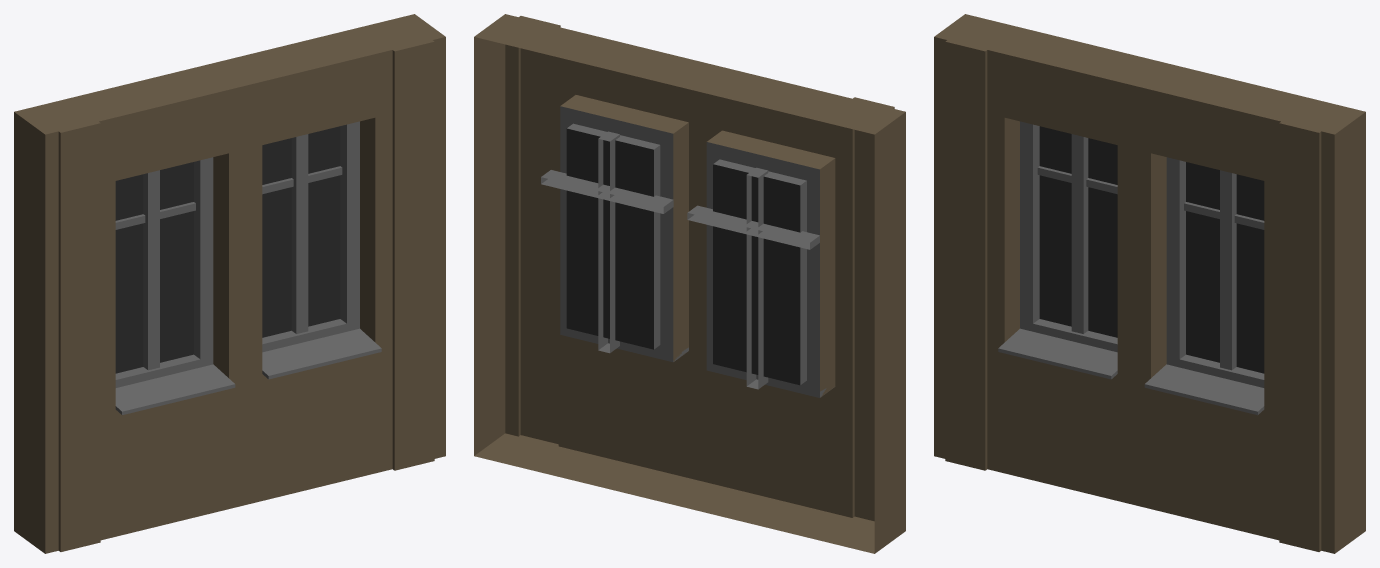
File: middle_floor_wall_02.glb
3 views of the same model, side by side, from view 1: azimuth 30°, elevation 25°; view 2: azimuth 150°, elevation 25°; view 3: azimuth 330°, elevation 25° (orthographic).
Visible parts, largest first — view 1: middle_floor_wall_02; view 2: middle_floor_wall_02; view 3: middle_floor_wall_02.
Boxes of the visible parts, bbox=[...] form: middle_floor_wall_02: bbox=[14, 14, 445, 553]; middle_floor_wall_02: bbox=[474, 14, 905, 553]; middle_floor_wall_02: bbox=[934, 14, 1365, 553].
Size of the model in its own units: 3 by 3 by 0.4876.
